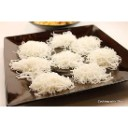idiyappam: (51, 48, 86, 73), (35, 71, 72, 94), (18, 38, 54, 61), (70, 31, 104, 54), (11, 56, 54, 74), (72, 64, 111, 83), (90, 48, 121, 69), (48, 32, 79, 50)
